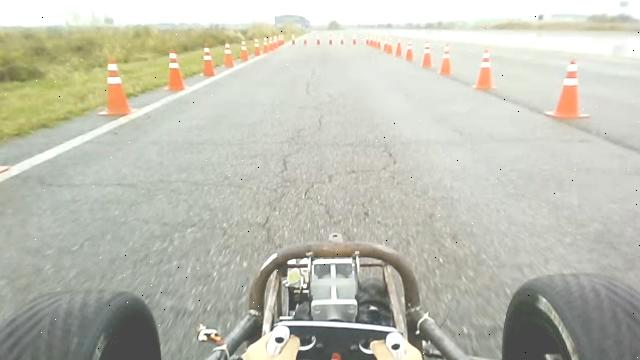red cone: (544, 58, 590, 119), (97, 56, 135, 116), (473, 49, 496, 90), (165, 48, 186, 91), (438, 42, 452, 76), (202, 46, 216, 77), (421, 41, 432, 69), (223, 42, 234, 68), (239, 40, 249, 62), (405, 38, 414, 62), (384, 38, 394, 54), (253, 38, 260, 57), (395, 39, 402, 57)
